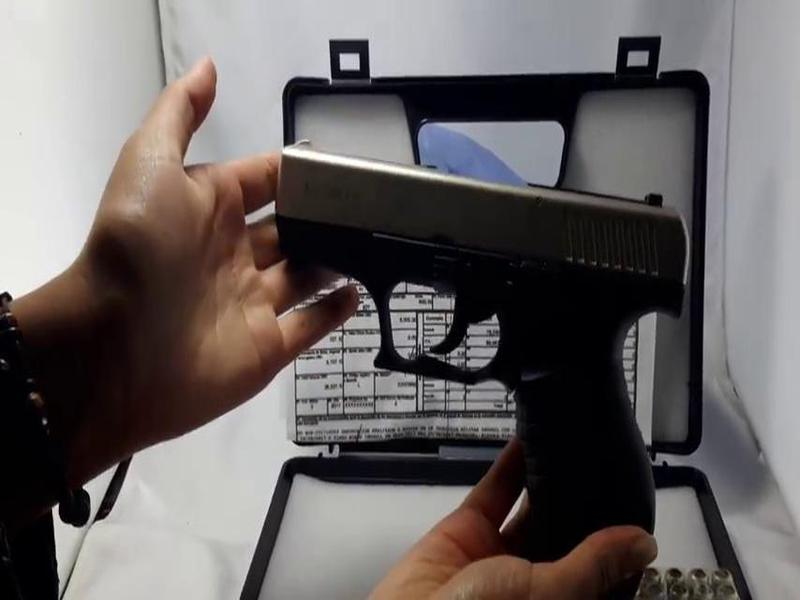Pistola: (245, 111, 705, 580)
